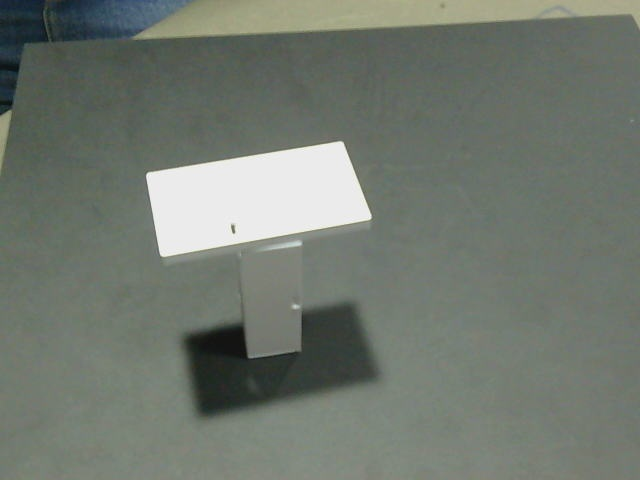enclosure_good: (147, 142, 371, 257)
